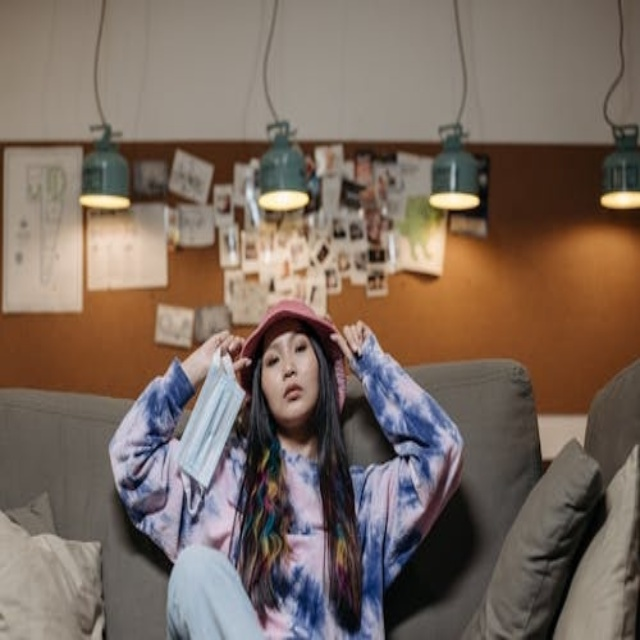Sin_gafas: (264, 330, 308, 374)
Sin_mascara: (274, 381, 311, 418)
